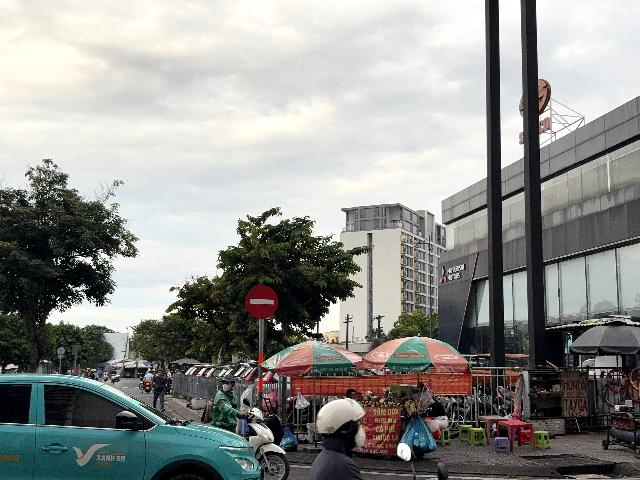cam-di-nguoc-chieu: (245, 285, 279, 319)
